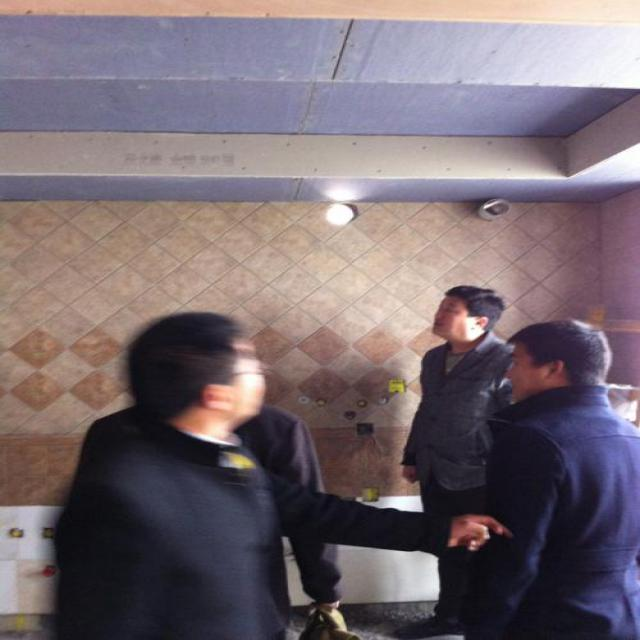head: (111, 304, 279, 437), (494, 316, 613, 402), (429, 282, 497, 349)
person: (44, 299, 386, 636), (472, 309, 640, 640), (383, 274, 521, 626)
